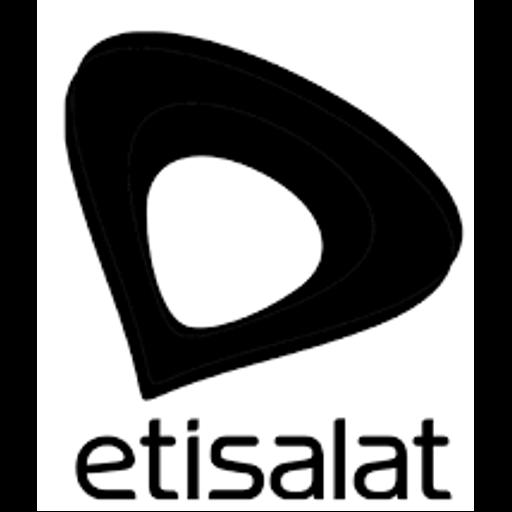Etisalat: (37, 0, 474, 511)
